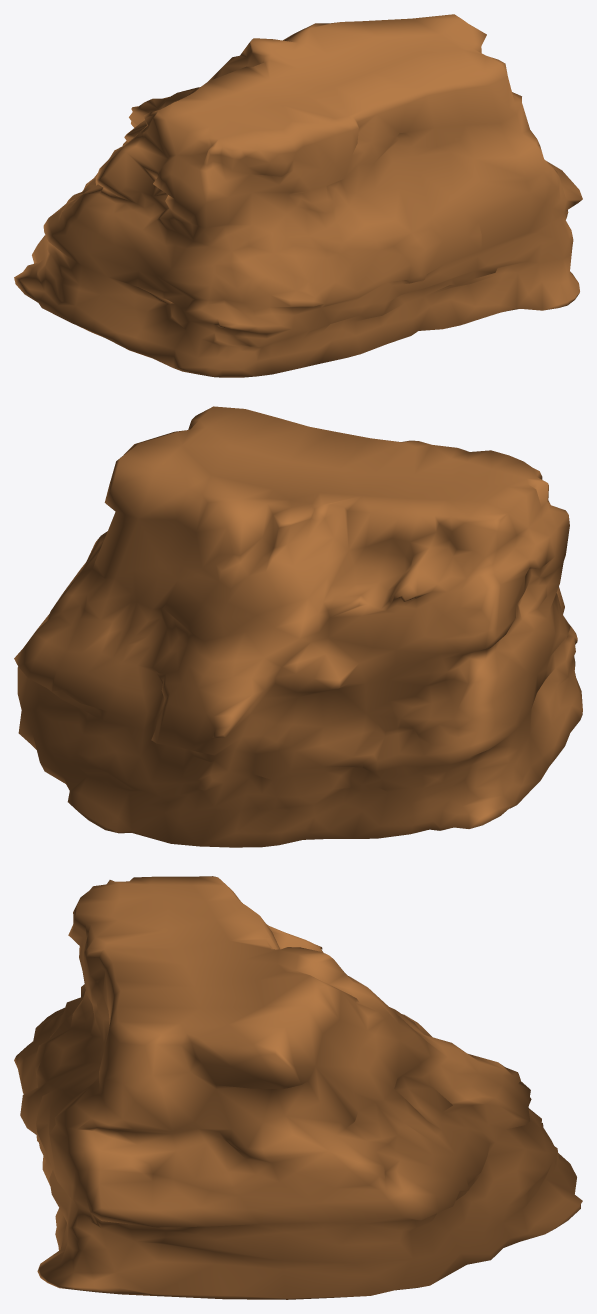
Rendered from MSH_Rocks_Cliff_13_b.FBX.
3 views of the same model, one above another, from view 1: azimuth 30°, elevation 25°; view 2: azimuth 150°, elevation 25°; view 3: azimuth 270°, elevation 25° (orthographic). The views are drawn at different scales.
Parts seen in each view (by area): view 1: MESH_LOD0; view 2: MESH_LOD0; view 3: MESH_LOD0.
Part boxes in pixels (bbox=[...]): MESH_LOD0: bbox=[14, 14, 582, 377]; MESH_LOD0: bbox=[14, 406, 582, 847]; MESH_LOD0: bbox=[14, 876, 582, 1299].
Size of what is drawn, in the model's own units: 482 by 239 by 497.
